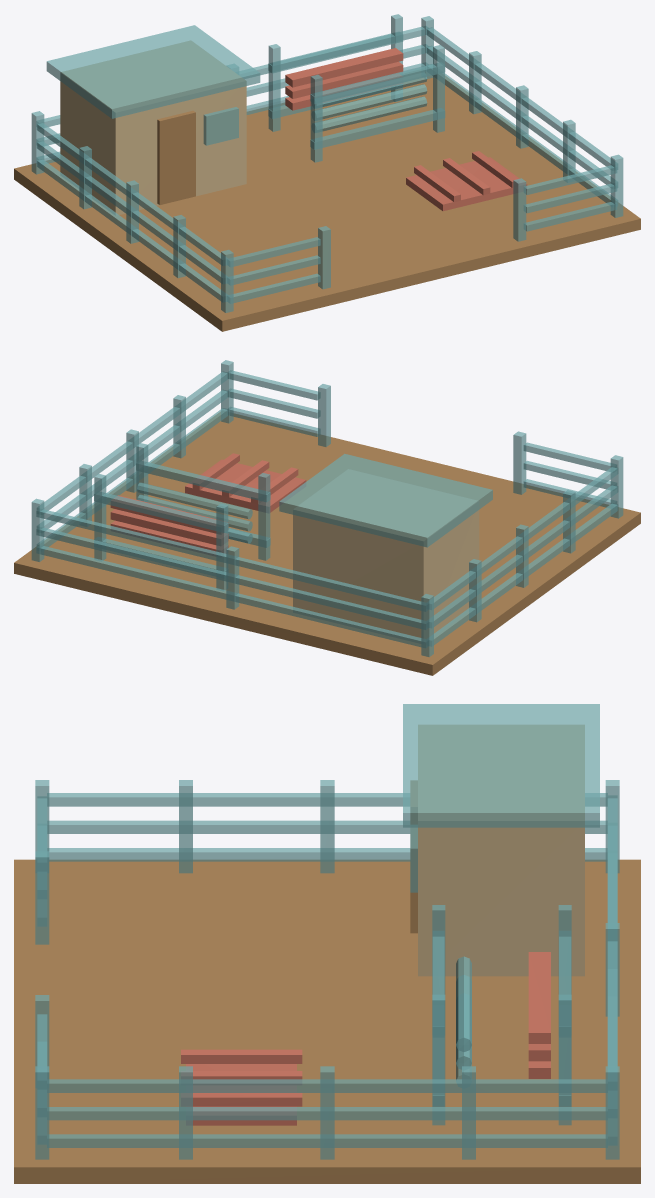
File: construction-yard.source.glb
3 renders of one model, top to bottom at view 1: azimuth 30°, elevation 25°; view 2: azimuth 150°, elevation 25°; view 3: azimuth 270°, elevation 25°, orthographic. The views are drawn at different scales.
Parts seen in each view (by area): view 1: construction-yard-grounded-yard-base-mesh, construction-yard-small-cream-site-office-mesh, construction-yard-site-office-dark-roof-mesh, construction-yard-site-office-teal-door-mesh, construction-yard-clean-pallet-bay-mesh, construction-yard-left-fence-rail-0.35-mesh, construction-yard-left-fence-rail-0.95-mesh, construction-yard-left-fence-rail-0.65-mesh, construction-yard-right-fence-rail-0.95-mesh, construction-yard-right-fence-rail-0.65-mesh, construction-yard-right-fence-rail-0.35-mesh, construction-yard-secured-timber-beam-1.05-mesh (+38 smaller); view 2: construction-yard-grounded-yard-base-mesh, construction-yard-small-cream-site-office-mesh, construction-yard-site-office-dark-roof-mesh, construction-yard-rear-fence-rail-0.95-mesh, construction-yard-rear-fence-rail-0.65-mesh, construction-yard-rear-fence-rail-0.35-mesh, construction-yard-clean-pallet-bay-mesh, construction-yard-left-fence-rail-0.35-mesh, construction-yard-left-fence-rail-0.65-mesh, construction-yard-left-fence-rail-0.95-mesh, construction-yard-right-fence-rail-0.95-mesh, construction-yard-right-fence-rail-0.65-mesh (+36 smaller); view 3: construction-yard-grounded-yard-base-mesh, construction-yard-small-cream-site-office-mesh, construction-yard-site-office-dark-roof-mesh, construction-yard-right-fence-rail-0.35-mesh, construction-yard-right-fence-rail-0.95-mesh, construction-yard-right-fence-rail-0.65-mesh, construction-yard-left-fence-rail-0.35-mesh, construction-yard-left-fence-rail-0.95-mesh, construction-yard-left-fence-rail-0.65-mesh, construction-yard-clean-pallet-bay-mesh, construction-yard-rear-fence-rail-0.95-mesh, construction-yard-secured-timber-beam-1.05-mesh (+28 smaller).
Part boxes in pixels (x1,y1,x2,y2): construction-yard-grounded-yard-base-mesh: [14, 76, 640, 331]; construction-yard-small-cream-site-office-mesh: [60, 40, 246, 215]; construction-yard-site-office-dark-roof-mesh: [46, 25, 260, 118]; construction-yard-site-office-teal-door-mesh: [157, 110, 195, 204]; construction-yard-clean-pallet-bay-mesh: [406, 157, 527, 211]; construction-yard-left-fence-rail-0.35-mesh: [37, 159, 226, 301]; construction-yard-left-fence-rail-0.95-mesh: [37, 123, 227, 265]; construction-yard-left-fence-rail-0.65-mesh: [37, 141, 227, 283]; construction-yard-right-fence-rail-0.95-mesh: [427, 28, 617, 169]; construction-yard-right-fence-rail-0.65-mesh: [427, 46, 617, 187]; construction-yard-right-fence-rail-0.35-mesh: [427, 64, 617, 205]; construction-yard-secured-timber-beam-1.05-mesh: [285, 48, 403, 87]; construction-yard-grounded-yard-base-mesh: [14, 412, 640, 675]; construction-yard-small-cream-site-office-mesh: [293, 469, 479, 643]; construction-yard-site-office-dark-roof-mesh: [279, 453, 492, 547]; construction-yard-rear-fence-rail-0.95-mesh: [37, 509, 428, 611]; construction-yard-rear-fence-rail-0.65-mesh: [37, 527, 428, 629]; construction-yard-rear-fence-rail-0.35-mesh: [37, 545, 428, 647]; construction-yard-clean-pallet-bay-mesh: [185, 459, 306, 513]; construction-yard-left-fence-rail-0.35-mesh: [428, 503, 617, 646]; construction-yard-left-fence-rail-0.65-mesh: [427, 485, 617, 627]; construction-yard-left-fence-rail-0.95-mesh: [427, 467, 617, 609]; construction-yard-right-fence-rail-0.95-mesh: [37, 372, 227, 512]; construction-yard-right-fence-rail-0.65-mesh: [37, 390, 227, 530]; construction-yard-grounded-yard-base-mesh: [14, 859, 640, 1183]; construction-yard-small-cream-site-office-mesh: [418, 725, 584, 976]; construction-yard-site-office-dark-roof-mesh: [403, 704, 599, 827]; construction-yard-right-fence-rail-0.35-mesh: [47, 1134, 607, 1147]; construction-yard-right-fence-rail-0.95-mesh: [47, 1079, 607, 1092]; construction-yard-right-fence-rail-0.65-mesh: [47, 1107, 607, 1120]; construction-yard-left-fence-rail-0.35-mesh: [48, 848, 606, 861]; construction-yard-left-fence-rail-0.95-mesh: [47, 793, 607, 806]; construction-yard-left-fence-rail-0.65-mesh: [47, 820, 607, 833]; construction-yard-clean-pallet-bay-mesh: [186, 1064, 296, 1125]; construction-yard-rear-fence-rail-0.95-mesh: [607, 796, 617, 1089]; construction-yard-secured-timber-beam-1.05-mesh: [528, 952, 550, 1043].
Bounding box in the file's own units: 7.2 × 2.03 × 6.2.
